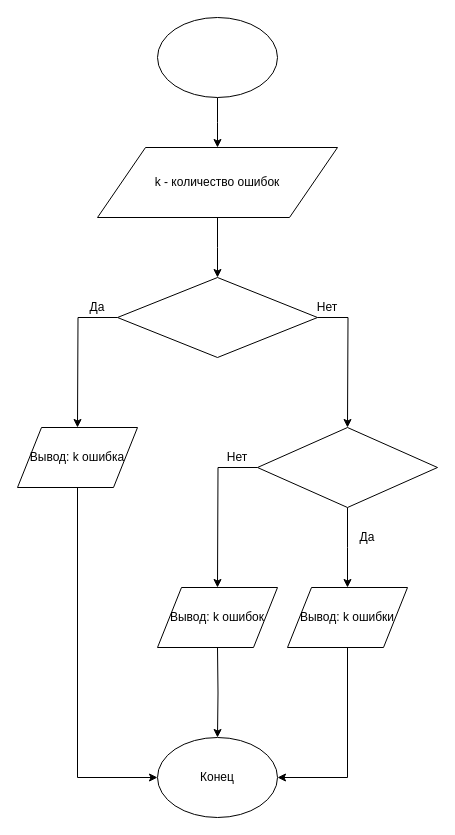
This 455x835 diagram has some shape labels left out. Here are the shapes that lost their labels. From the top down, the centre of each, then its label:
At [217,57]: "Начало".
At [217,317]: "k = 1?".
At [347,467]: "k=2, 3, 4?".
